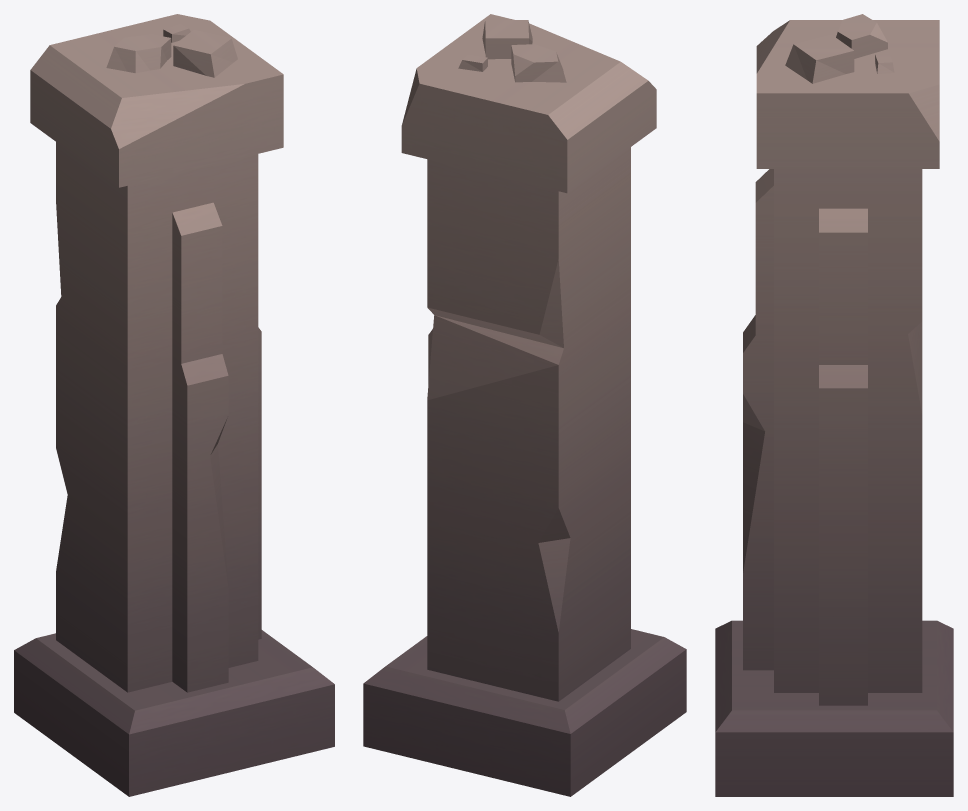
File: fenceACorner4.glb
The picture shows the model from 3 angles, left to right: view 1: azimuth 30°, elevation 25°; view 2: azimuth 150°, elevation 25°; view 3: azimuth 270°, elevation 25°; orthographic projection. The views are drawn at different scales.
Visible parts, largest first — view 1: fenceACorner4; view 2: fenceACorner4; view 3: fenceACorner4.
Boxes of the visible parts, left/top/right/bottom form: fenceACorner4: left=14, top=14, right=334, bottom=796; fenceACorner4: left=363, top=14, right=686, bottom=796; fenceACorner4: left=715, top=14, right=953, bottom=796.
Bounding box in the file's own units: 0.8001 × 2.55 × 0.7752.
1 material, 1 textured.
